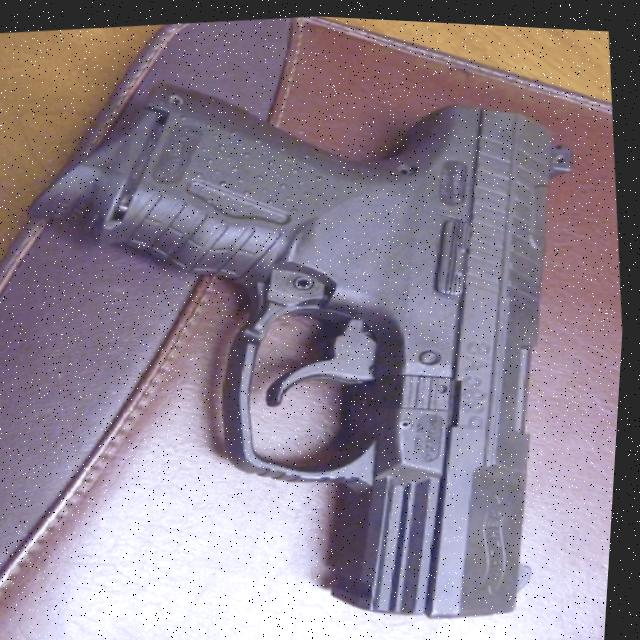pistol: (0, 26, 630, 640)
